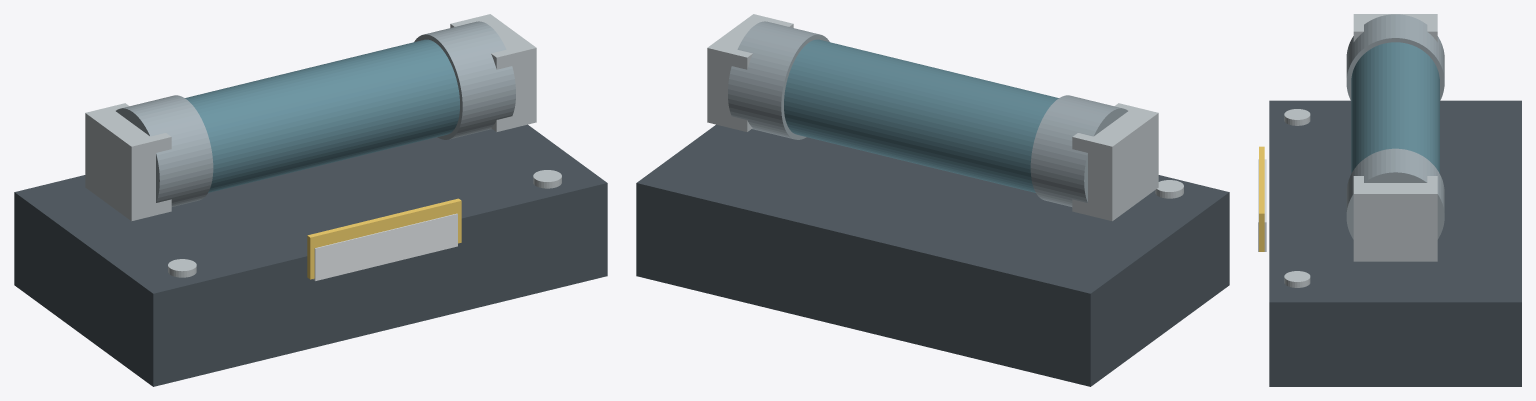
Rendered from fuse_module_lod0.glb.
The picture shows the model from 3 angles, left to right: view 1: azimuth 30°, elevation 25°; view 2: azimuth 150°, elevation 25°; view 3: azimuth 270°, elevation 25°; orthographic projection. The views are drawn at different scales.
Visible parts, largest first — view 1: FUSE_BASE_MAT_POLYMER_BLACK, FUSE_GLASS_MAT_GLASS, FUSE_CLIP_0_MAT_STAINLESS, FUSE_CAP_0.34_MAT_METAL_BRUSHED, FUSE_CAP_-0.34_MAT_METAL_BRUSHED, FUSE_LABEL_MAT_WHITE, FUSE_CLIP_1_MAT_STAINLESS, FUSE_CAUTION_LABEL_MAT_WARNING; view 2: FUSE_BASE_MAT_POLYMER_BLACK, FUSE_GLASS_MAT_GLASS, FUSE_CLIP_0_MAT_STAINLESS, FUSE_CAP_0.34_MAT_METAL_BRUSHED, FUSE_CAP_-0.34_MAT_METAL_BRUSHED, FUSE_CLIP_1_MAT_STAINLESS; view 3: FUSE_BASE_MAT_POLYMER_BLACK, FUSE_GLASS_MAT_GLASS, FUSE_CLIP_1_MAT_STAINLESS, FUSE_CAP_0.34_MAT_METAL_BRUSHED, FUSE_CAP_-0.34_MAT_METAL_BRUSHED, FUSE_CLIP_0_MAT_STAINLESS, FUSE_CAUTION_LABEL_MAT_WARNING, FUSE_CLIP_SCREW_0_MAT_STAINLESS, FUSE_CLIP_SCREW_1_MAT_STAINLESS, FUSE_LABEL_MAT_WHITE.
Boxes of the visible parts, x1,y1,x2,y2 form: FUSE_BASE_MAT_POLYMER_BLACK: (14, 124, 607, 386); FUSE_GLASS_MAT_GLASS: (185, 39, 459, 192); FUSE_CLIP_0_MAT_STAINLESS: (85, 103, 171, 221); FUSE_CAP_0.34_MAT_METAL_BRUSHED: (414, 21, 515, 139); FUSE_CAP_-0.34_MAT_METAL_BRUSHED: (116, 95, 213, 206); FUSE_LABEL_MAT_WHITE: (312, 213, 457, 280); FUSE_CLIP_1_MAT_STAINLESS: (450, 14, 536, 131); FUSE_CAUTION_LABEL_MAT_WARNING: (307, 198, 461, 279); FUSE_BASE_MAT_POLYMER_BLACK: (636, 124, 1229, 386); FUSE_GLASS_MAT_GLASS: (784, 39, 1058, 192); FUSE_CLIP_0_MAT_STAINLESS: (1072, 103, 1158, 221); FUSE_CAP_0.34_MAT_METAL_BRUSHED: (728, 21, 829, 139); FUSE_CAP_-0.34_MAT_METAL_BRUSHED: (1030, 95, 1127, 206); FUSE_CLIP_1_MAT_STAINLESS: (707, 14, 793, 131); FUSE_BASE_MAT_POLYMER_BLACK: (1269, 100, 1521, 386); FUSE_GLASS_MAT_GLASS: (1351, 42, 1439, 173); FUSE_CLIP_1_MAT_STAINLESS: (1353, 176, 1437, 261); FUSE_CAP_0.34_MAT_METAL_BRUSHED: (1346, 148, 1444, 239); FUSE_CAP_-0.34_MAT_METAL_BRUSHED: (1346, 14, 1444, 100); FUSE_CLIP_0_MAT_STAINLESS: (1353, 14, 1437, 42); FUSE_CAUTION_LABEL_MAT_WARNING: (1259, 146, 1264, 251); FUSE_CLIP_SCREW_0_MAT_STAINLESS: (1284, 109, 1310, 125); FUSE_CLIP_SCREW_1_MAT_STAINLESS: (1284, 271, 1310, 287); FUSE_LABEL_MAT_WHITE: (1258, 159, 1266, 251).
Bounding box in the file's own units: 1.02 × 0.455 × 0.564.
